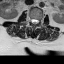CCS_normal: (33, 16, 35, 27)
LFS_normal: (38, 17, 40, 25)
LLS_normal: (35, 17, 38, 26)
RFS_normal: (29, 14, 31, 24)
RLS_normal: (31, 16, 33, 25)
